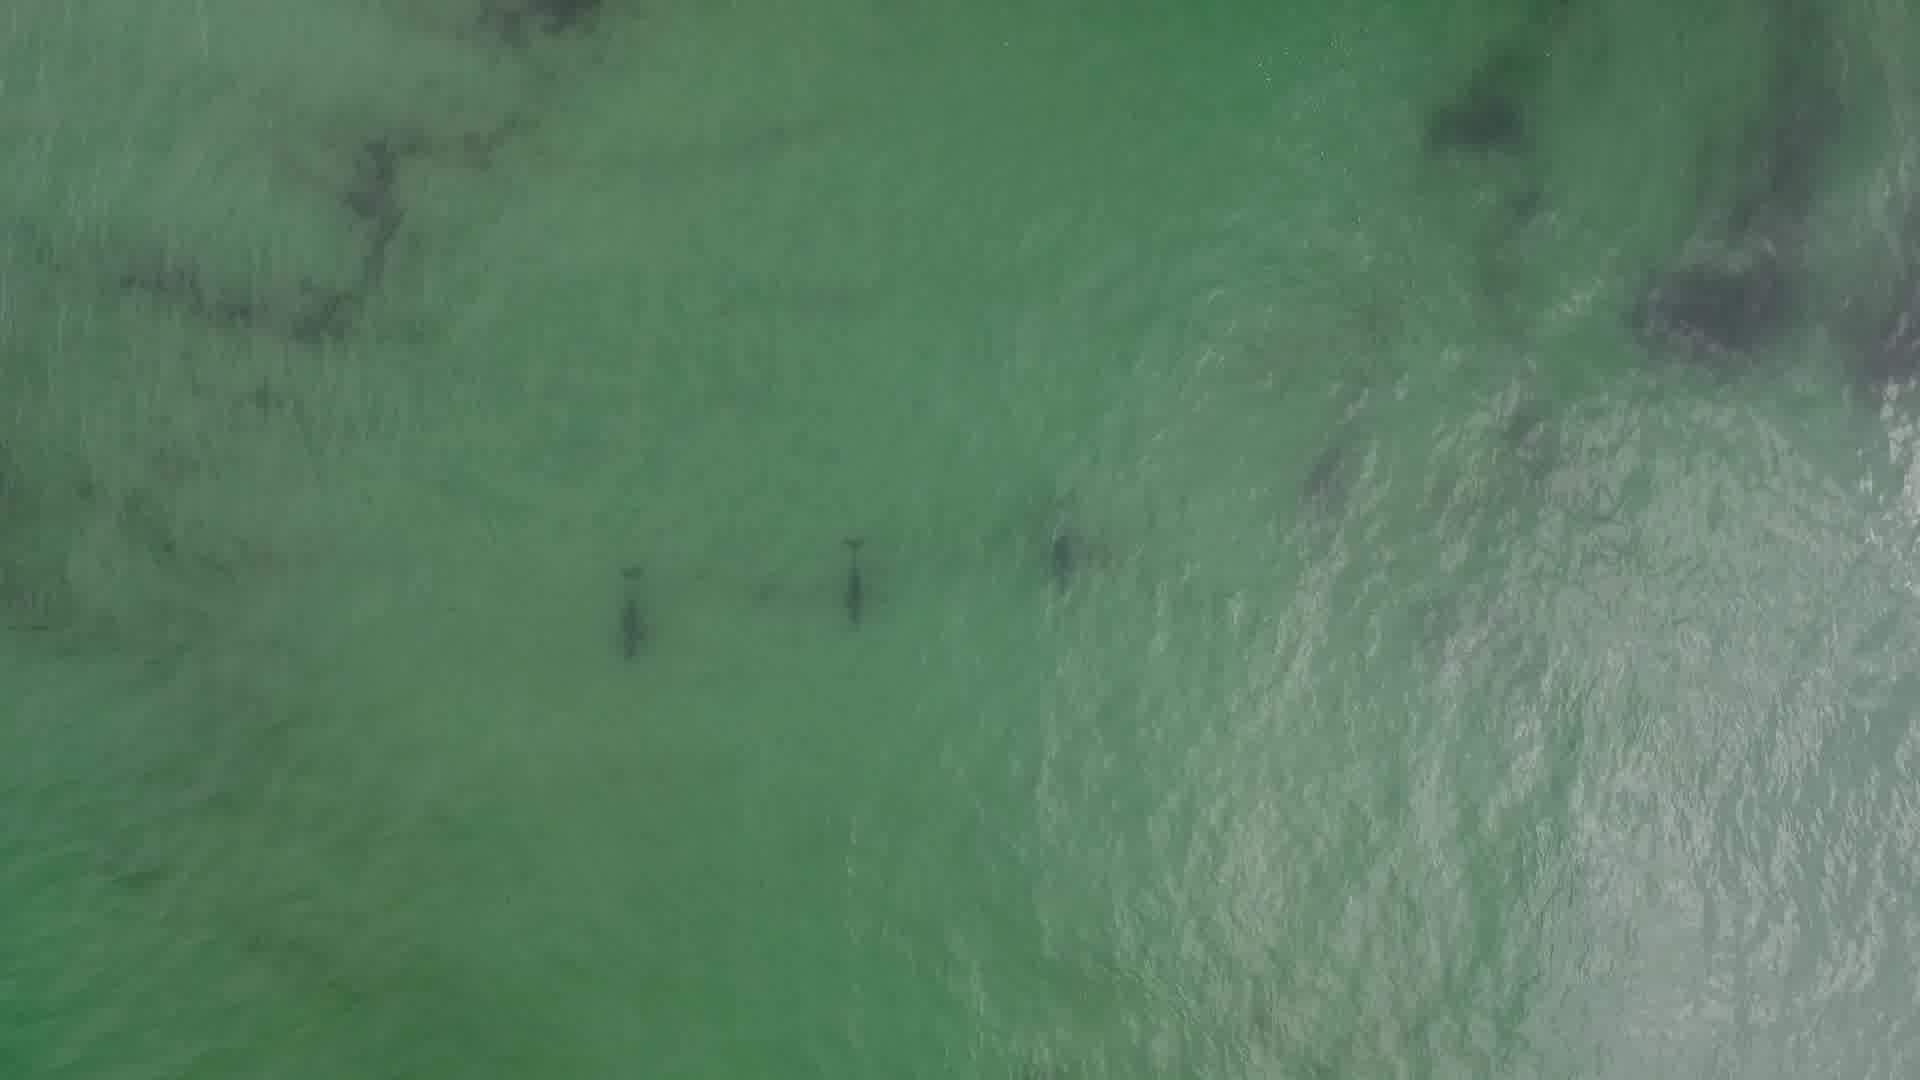dolphin: (589, 553, 666, 688), (829, 527, 880, 644)
